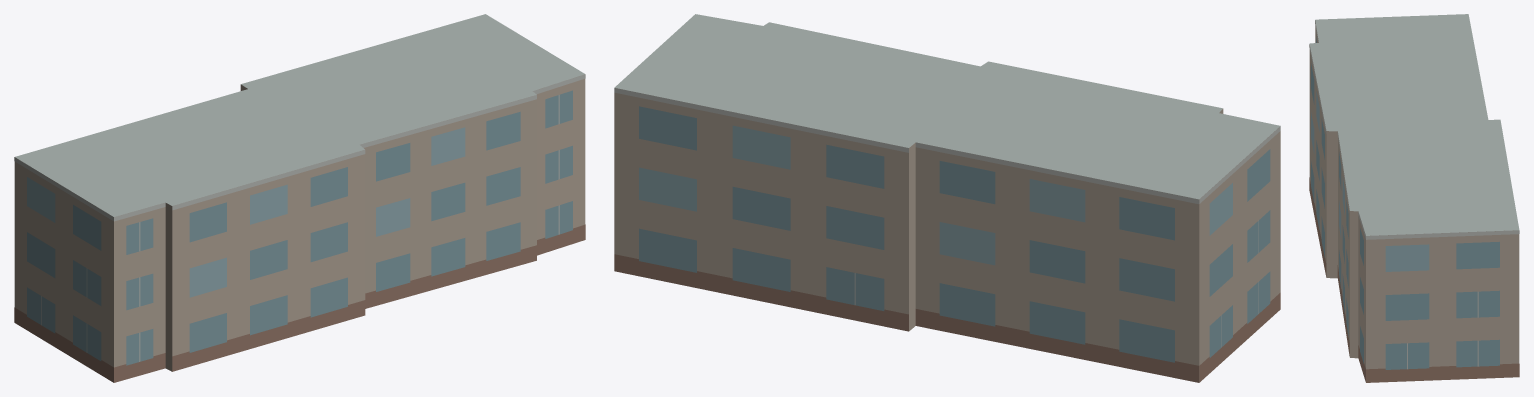
File: survey-upis-32621559.glb
3 renders of one model, left to right at view 1: azimuth 30°, elevation 25°; view 2: azimuth 150°, elevation 25°; view 3: azimuth 270°, elevation 25°, orthographic. The views are drawn at different scales.
Visible parts, largest first — view 1: survey-upis-32621559.tmp; view 2: survey-upis-32621559.tmp; view 3: survey-upis-32621559.tmp.
Part boxes in pixels (x1=…): survey-upis-32621559.tmp: x1=14, y1=14, x2=585, y2=382; survey-upis-32621559.tmp: x1=614, y1=14, x2=1280, y2=382; survey-upis-32621559.tmp: x1=1309, y1=14, x2=1519, y2=382.
Size of the model in its own units: 29.64 by 9.15 by 11.86.
